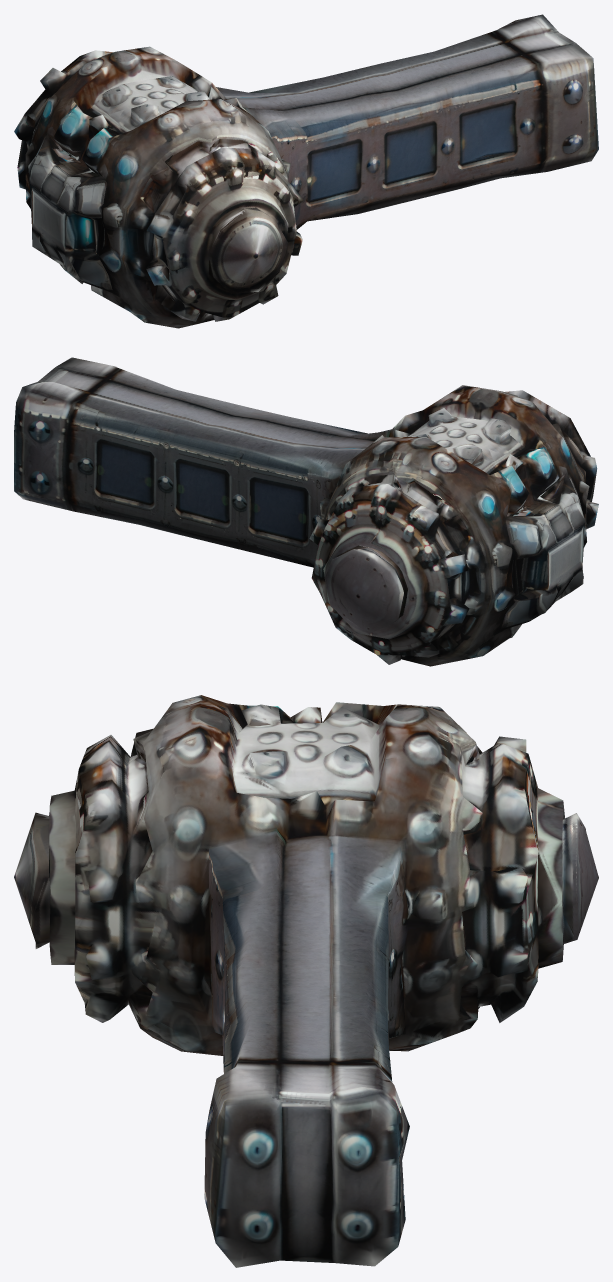
The model's file is SteampunkRocketGear.fbx.
The picture shows the model from 3 angles, top to bottom: view 1: azimuth 30°, elevation 25°; view 2: azimuth 150°, elevation 25°; view 3: azimuth 270°, elevation 25°; orthographic projection. The views are drawn at different scales.
Visible parts, largest first — view 1: texture_mapping; view 2: texture_mapping; view 3: texture_mapping.
Part boxes in pixels (x1=…): texture_mapping: x1=14, y1=14, x2=598, y2=328; texture_mapping: x1=14, y1=357, x2=598, y2=666; texture_mapping: x1=14, y1=695, x2=598, y2=1267.
Size of the model in its own units: 0.9777 by 0.6118 by 0.3821.
1 material, 1 textured.
